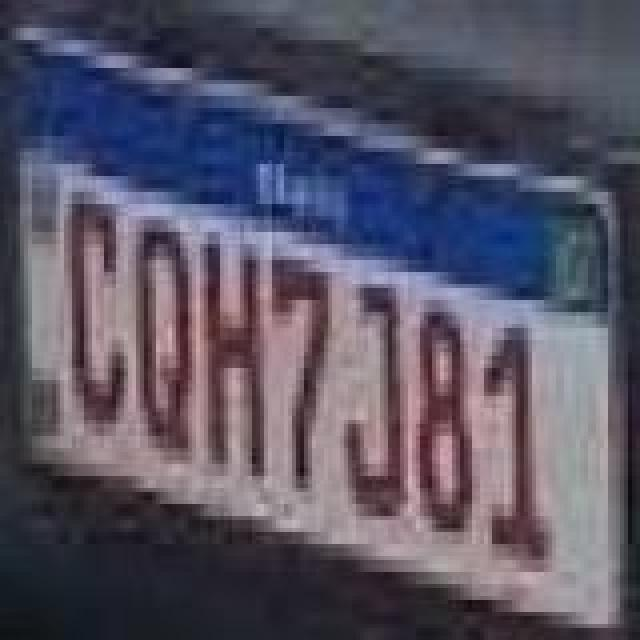1: (484, 324, 556, 572)
7: (268, 252, 332, 500)
8: (416, 292, 480, 540)
C: (66, 180, 126, 428)
H: (204, 222, 268, 482)
J: (344, 276, 408, 524)
Q: (132, 216, 196, 464)
